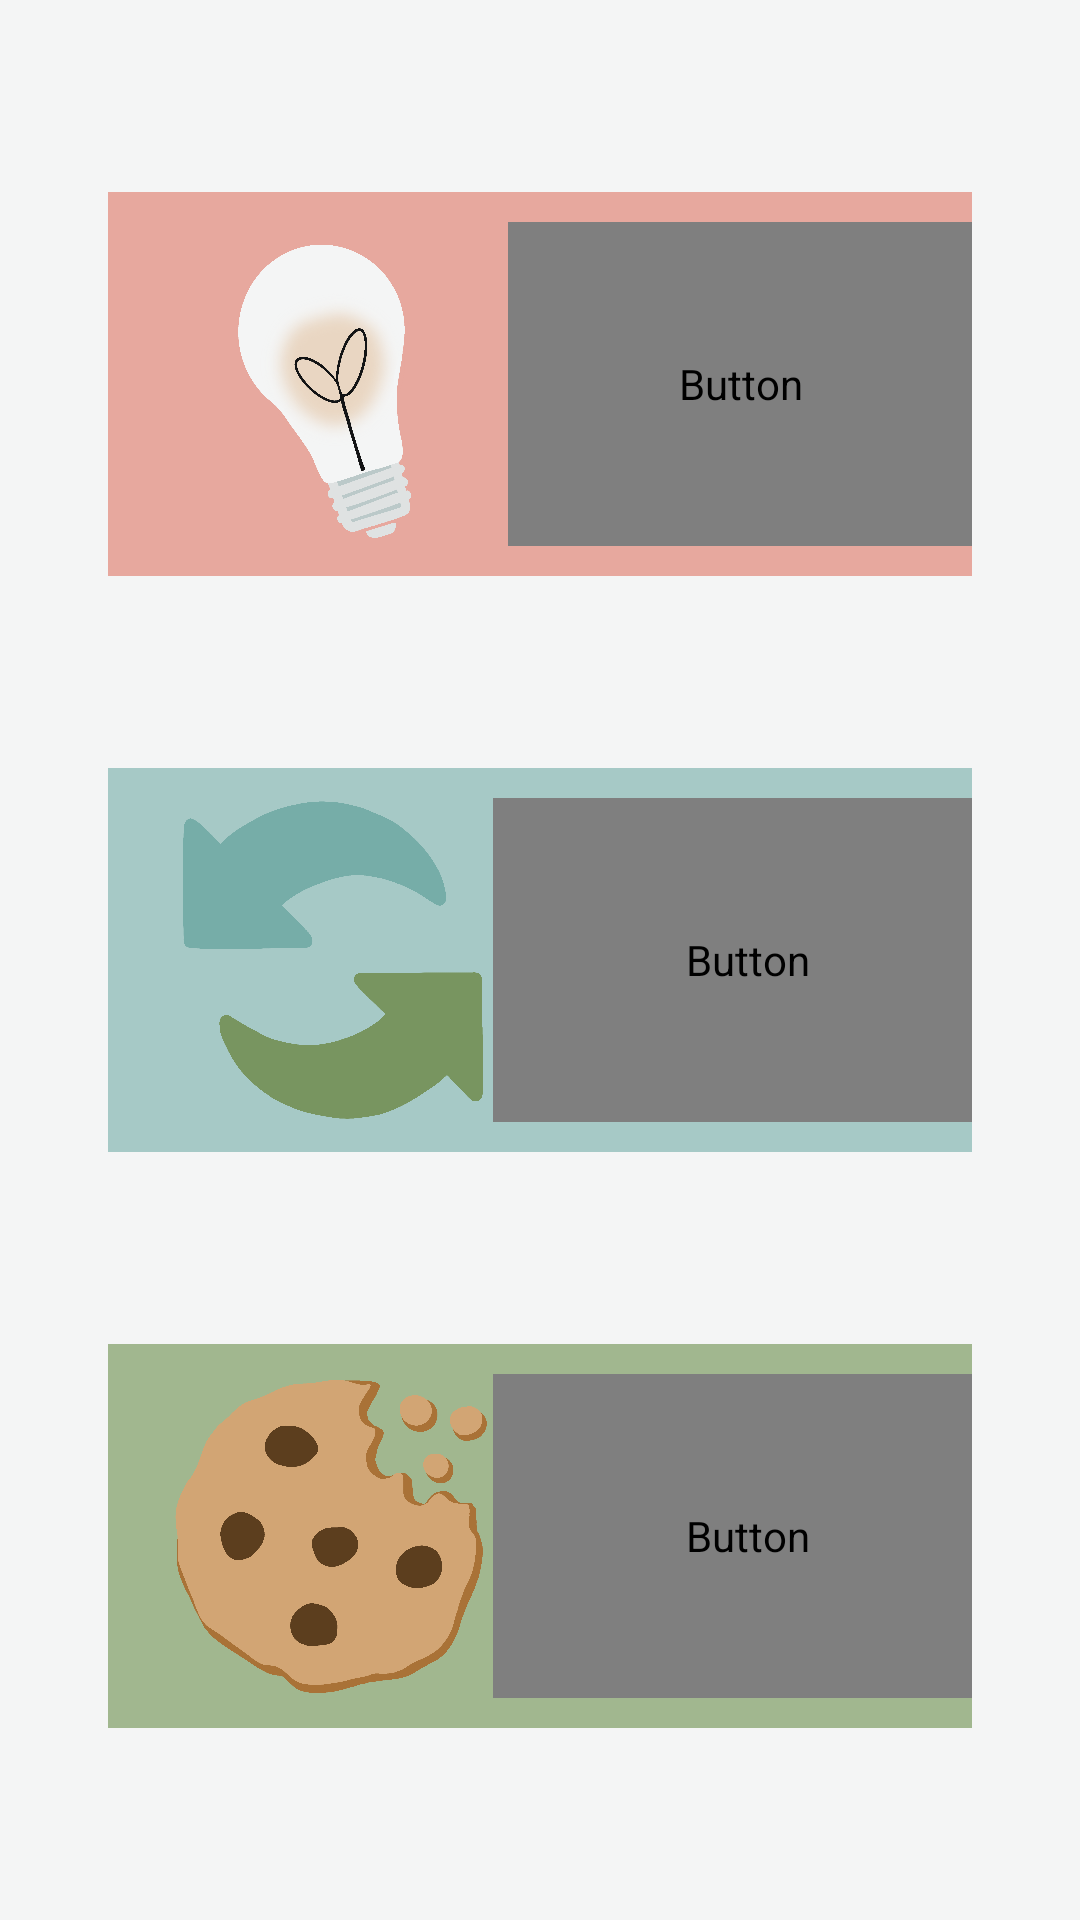

Screen size 1080w x 1920h. Icon name, then its center in pixels as point (x, y):
cookie: point (331, 1536)
lightbulb: point (324, 391)
swap: point (333, 960)
